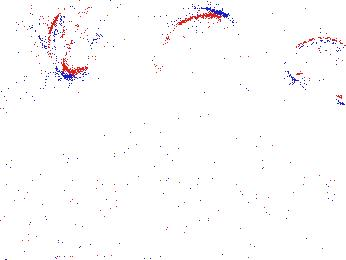moon jellyfish: (151, 7, 234, 78), (48, 1, 119, 79), (1, 9, 48, 111), (285, 36, 346, 104), (207, 9, 294, 43)
